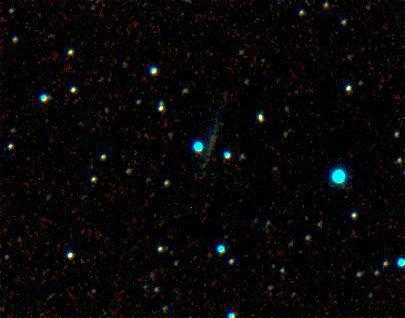star: (352, 0, 382, 29)
